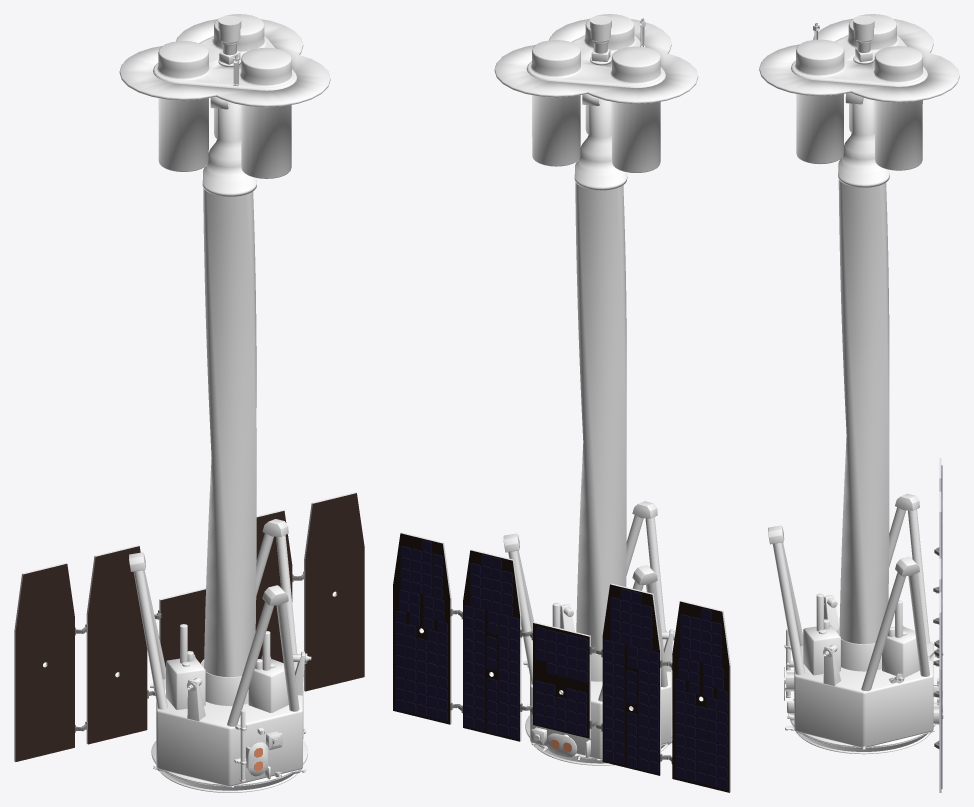
File: ixpe.glb
3 views of the same model, side by side, from view 1: azimuth 30°, elevation 25°; view 2: azimuth 150°, elevation 25°; view 3: azimuth 270°, elevation 25° (orthographic). The views are drawn at different scales.
Parts seen in each view (by area): view 1: BUS, solar_panel, IXPE_Mast.obj, IXPE_Base.obj.008; view 2: solar_cells, BUS, IXPE_Mast.obj, solar_panel, IXPE_Base.obj.008; view 3: BUS, IXPE_Mast.obj, IXPE_Base.obj.008, solar_panel, solar_cells.
Part boxes in pixels (x1,y1,x2,y2): BUS: (119, 19, 330, 787); solar_panel: (14, 492, 364, 761); IXPE_Mast.obj: (158, 14, 291, 676); IXPE_Base.obj.008: (43, 15, 337, 792); solar_cells: (395, 540, 727, 789); BUS: (494, 19, 698, 760); IXPE_Mast.obj: (532, 14, 660, 653); solar_panel: (393, 532, 730, 792); IXPE_Base.obj.008: (419, 15, 702, 765); BUS: (759, 19, 959, 749); IXPE_Mast.obj: (796, 14, 922, 643); IXPE_Base.obj.008: (784, 15, 943, 754); solar_panel: (933, 458, 941, 792); solar_cells: (941, 465, 942, 788).
Size of the model in its own units: 2.58 by 5.23 by 1.35.
